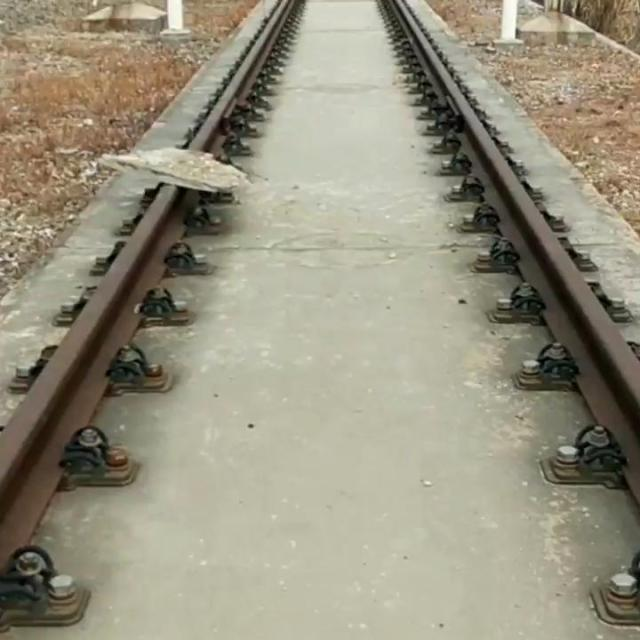danger: (95, 135, 260, 204)
rail: (385, 0, 640, 504), (0, 184, 196, 571), (190, 0, 296, 151)
